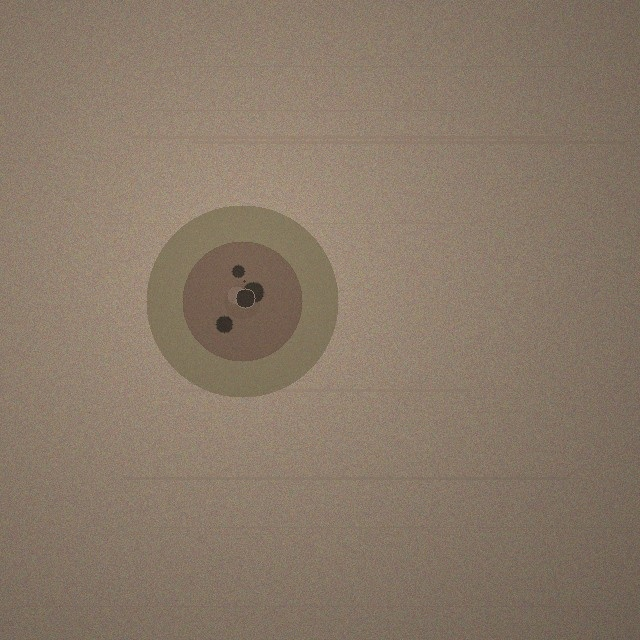shrinkage: (146, 205, 338, 397)
